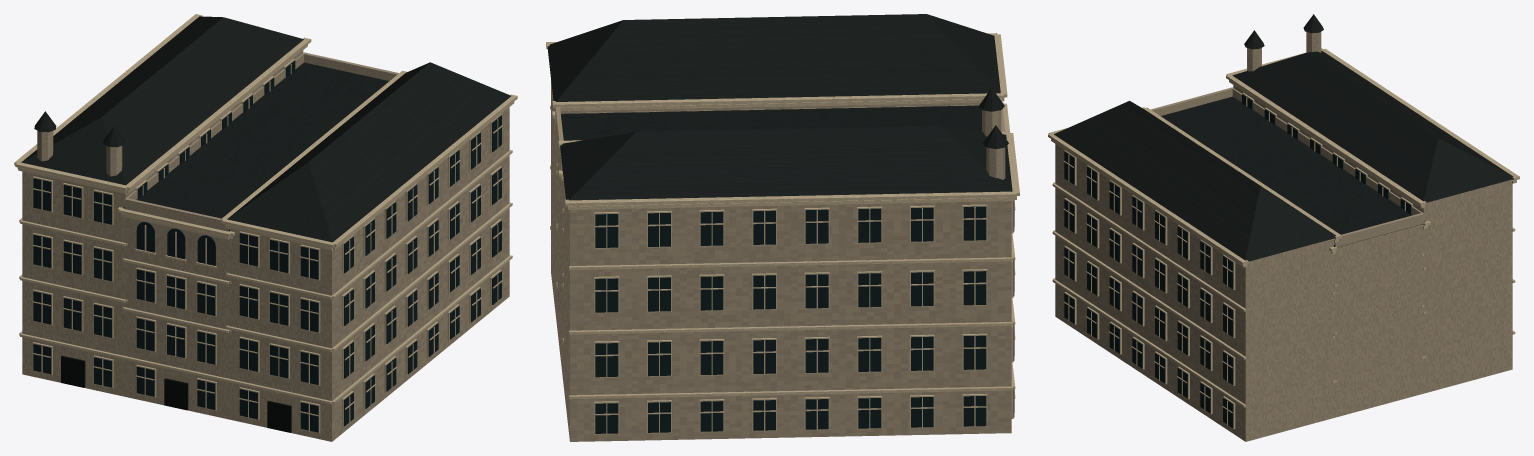
3 views of the same model, side by side, from view 1: azimuth 30°, elevation 25°; view 2: azimuth 150°, elevation 25°; view 3: azimuth 270°, elevation 25° (orthographic). The views are drawn at different scales.
Parts seen in each view (by area): view 1: hotel-smits-0, hotel-smits-1, hotel-smits-2, hotel-smits-3, hotel-smits-4; view 2: hotel-smits-0, hotel-smits-1, hotel-smits-2, hotel-smits-3; view 3: hotel-smits-0, hotel-smits-1, hotel-smits-2, hotel-smits-3.
Boxes of the visible parts, x1=… form: hotel-smits-0: x1=22, y1=50, x2=509, y2=441; hotel-smits-1: x1=21, y1=16, x2=510, y2=242; hotel-smits-2: x1=14, y1=14, x2=517, y2=433; hotel-smits-3: x1=33, y1=60, x2=501, y2=432; hotel-smits-4: x1=61, y1=355, x2=291, y2=432; hotel-smits-0: x1=551, y1=80, x2=1011, y2=441; hotel-smits-1: x1=547, y1=14, x2=1012, y2=200; hotel-smits-2: x1=546, y1=33, x2=1019, y2=434; hotel-smits-3: x1=595, y1=200, x2=1014, y2=433; hotel-smits-0: x1=1055, y1=32, x2=1512, y2=441; hotel-smits-1: x1=1054, y1=14, x2=1513, y2=261; hotel-smits-2: x1=1048, y1=48, x2=1519, y2=428; hotel-smits-3: x1=1064, y1=94, x2=1411, y2=428.
Bounding box in the file's own units: 41.03 × 22.4 × 40.17.
5 materials, 5 textured.
